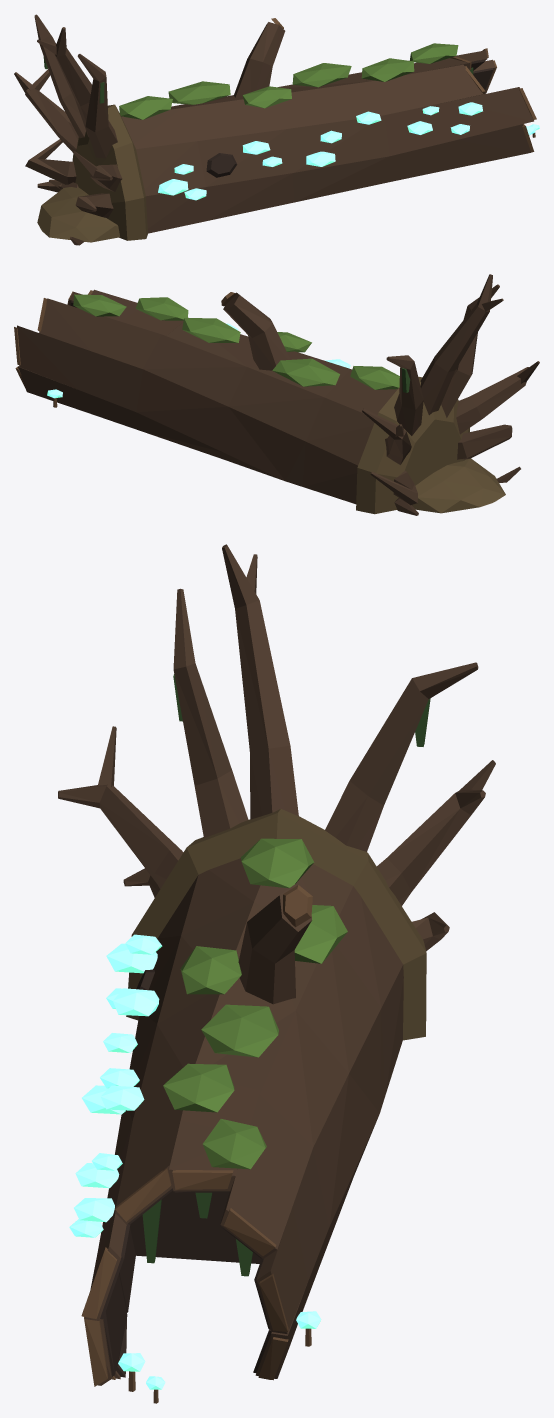
The model's file is Swamp_1_SunkenTrunk.fbx.
3 views of the same model, one above another, from view 1: azimuth 30°, elevation 25°; view 2: azimuth 150°, elevation 25°; view 3: azimuth 270°, elevation 25° (orthographic). The views are drawn at different scales.
Visible parts, largest first — view 1: Swamp_1_SunkenTrunk__Swamp_Bark, Swamp_1_SunkenTrunk__Swamp_Mud, Swamp_1_SunkenTrunk__Swamp_Moss, Swamp_1_SunkenTrunk__Neon_Swamp_MushroomGlow, Swamp_1_SunkenTrunk__Swamp_BarkDark, Swamp_1_SunkenTrunk__Swamp_Wood; view 2: Swamp_1_SunkenTrunk__Swamp_Bark, Swamp_1_SunkenTrunk__Swamp_Mud, Swamp_1_SunkenTrunk__Swamp_Moss, Swamp_1_SunkenTrunk__Swamp_Wood; view 3: Swamp_1_SunkenTrunk__Swamp_Bark, Swamp_1_SunkenTrunk__Swamp_Moss, Swamp_1_SunkenTrunk__Swamp_Mud, Swamp_1_SunkenTrunk__Neon_Swamp_MushroomGlow, Swamp_1_SunkenTrunk__Swamp_BarkDark, Swamp_1_SunkenTrunk__Swamp_Wood, Swamp_1_SunkenTrunk__Swamp_MossDark.
Boxes of the visible parts, x1=… form: Swamp_1_SunkenTrunk__Swamp_Bark: x1=14, y1=14, x2=533, y2=245; Swamp_1_SunkenTrunk__Swamp_Mud: x1=37, y1=104, x2=147, y2=242; Swamp_1_SunkenTrunk__Swamp_Moss: x1=119, y1=43, x2=458, y2=119; Swamp_1_SunkenTrunk__Neon_Swamp_MushroomGlow: x1=158, y1=102, x2=539, y2=200; Swamp_1_SunkenTrunk__Swamp_BarkDark: x1=206, y1=59, x2=493, y2=177; Swamp_1_SunkenTrunk__Swamp_Wood: x1=271, y1=18, x2=536, y2=152; Swamp_1_SunkenTrunk__Swamp_Bark: x1=17, y1=274, x2=539, y2=515; Swamp_1_SunkenTrunk__Swamp_Mud: x1=356, y1=376, x2=505, y2=514; Swamp_1_SunkenTrunk__Swamp_Moss: x1=73, y1=294, x2=399, y2=389; Swamp_1_SunkenTrunk__Swamp_Wood: x1=14, y1=290, x2=236, y2=407; Swamp_1_SunkenTrunk__Swamp_Bark: x1=58, y1=544, x2=495, y2=1385; Swamp_1_SunkenTrunk__Swamp_Moss: x1=163, y1=838, x2=347, y2=1169; Swamp_1_SunkenTrunk__Swamp_Mud: x1=126, y1=809, x2=426, y2=1040; Swamp_1_SunkenTrunk__Neon_Swamp_MushroomGlow: x1=69, y1=934, x2=321, y2=1389; Swamp_1_SunkenTrunk__Swamp_BarkDark: x1=100, y1=969, x2=271, y2=1377; Swamp_1_SunkenTrunk__Swamp_Wood: x1=81, y1=885, x2=312, y2=1403; Swamp_1_SunkenTrunk__Swamp_MossDark: x1=142, y1=674, x2=430, y2=1276.
Bounding box in the file's own units: 110 × 45.73 × 43.73.
